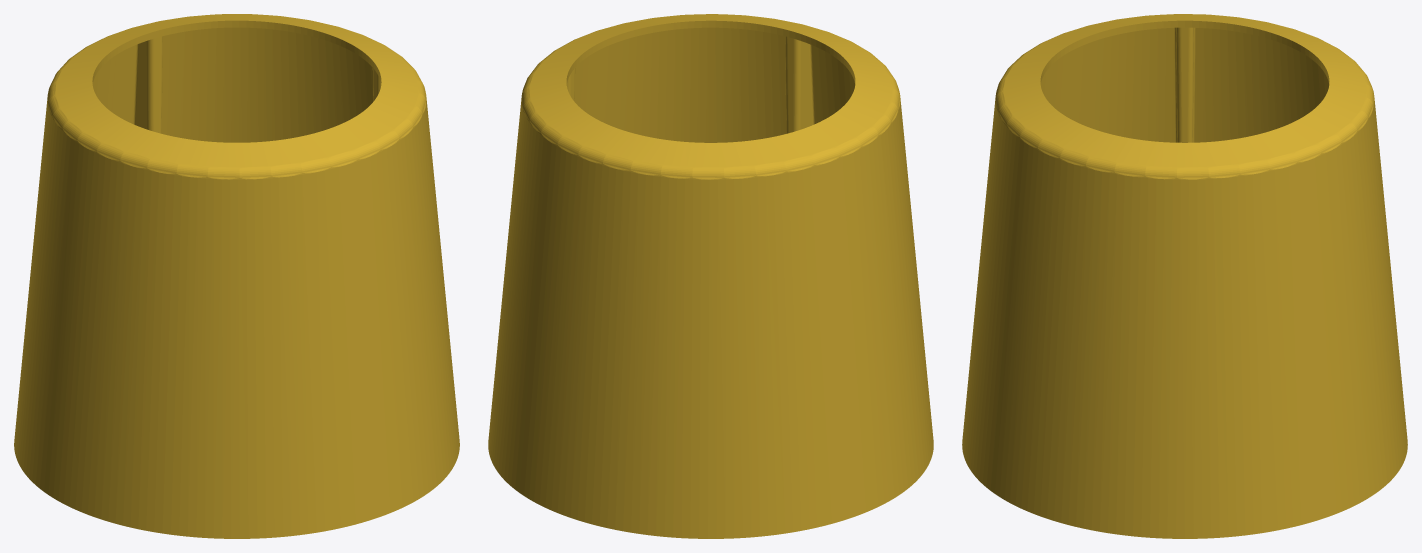
File: plastic_part.glb
The picture shows the model from 3 angles, left to right: view 1: azimuth 30°, elevation 25°; view 2: azimuth 150°, elevation 25°; view 3: azimuth 270°, elevation 25°; orthographic projection.
Parts seen in each view (by area): view 1: Plastic_Part_PEEK; view 2: Plastic_Part_PEEK; view 3: Plastic_Part_PEEK.
Part boxes in pixels (x1,y1,x2,y2): Plastic_Part_PEEK: [14, 14, 459, 538]; Plastic_Part_PEEK: [488, 14, 933, 538]; Plastic_Part_PEEK: [962, 14, 1407, 538].
Bounding box in the file's own units: 121 × 109 × 121.
